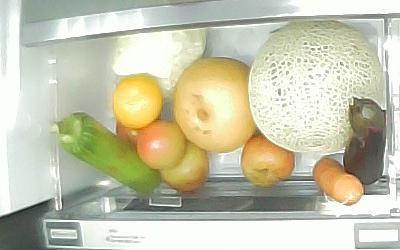cabbage: (110, 29, 207, 90)
carrot: (311, 158, 365, 205)
eggplant: (344, 97, 386, 186)
melon: (246, 21, 389, 155)
pear: (173, 58, 258, 154)
prune: (241, 134, 296, 187), (158, 141, 211, 194), (137, 121, 187, 170)
tangerine: (112, 77, 163, 127)
tomato: (114, 120, 142, 146)
zucchini: (56, 112, 161, 197)
